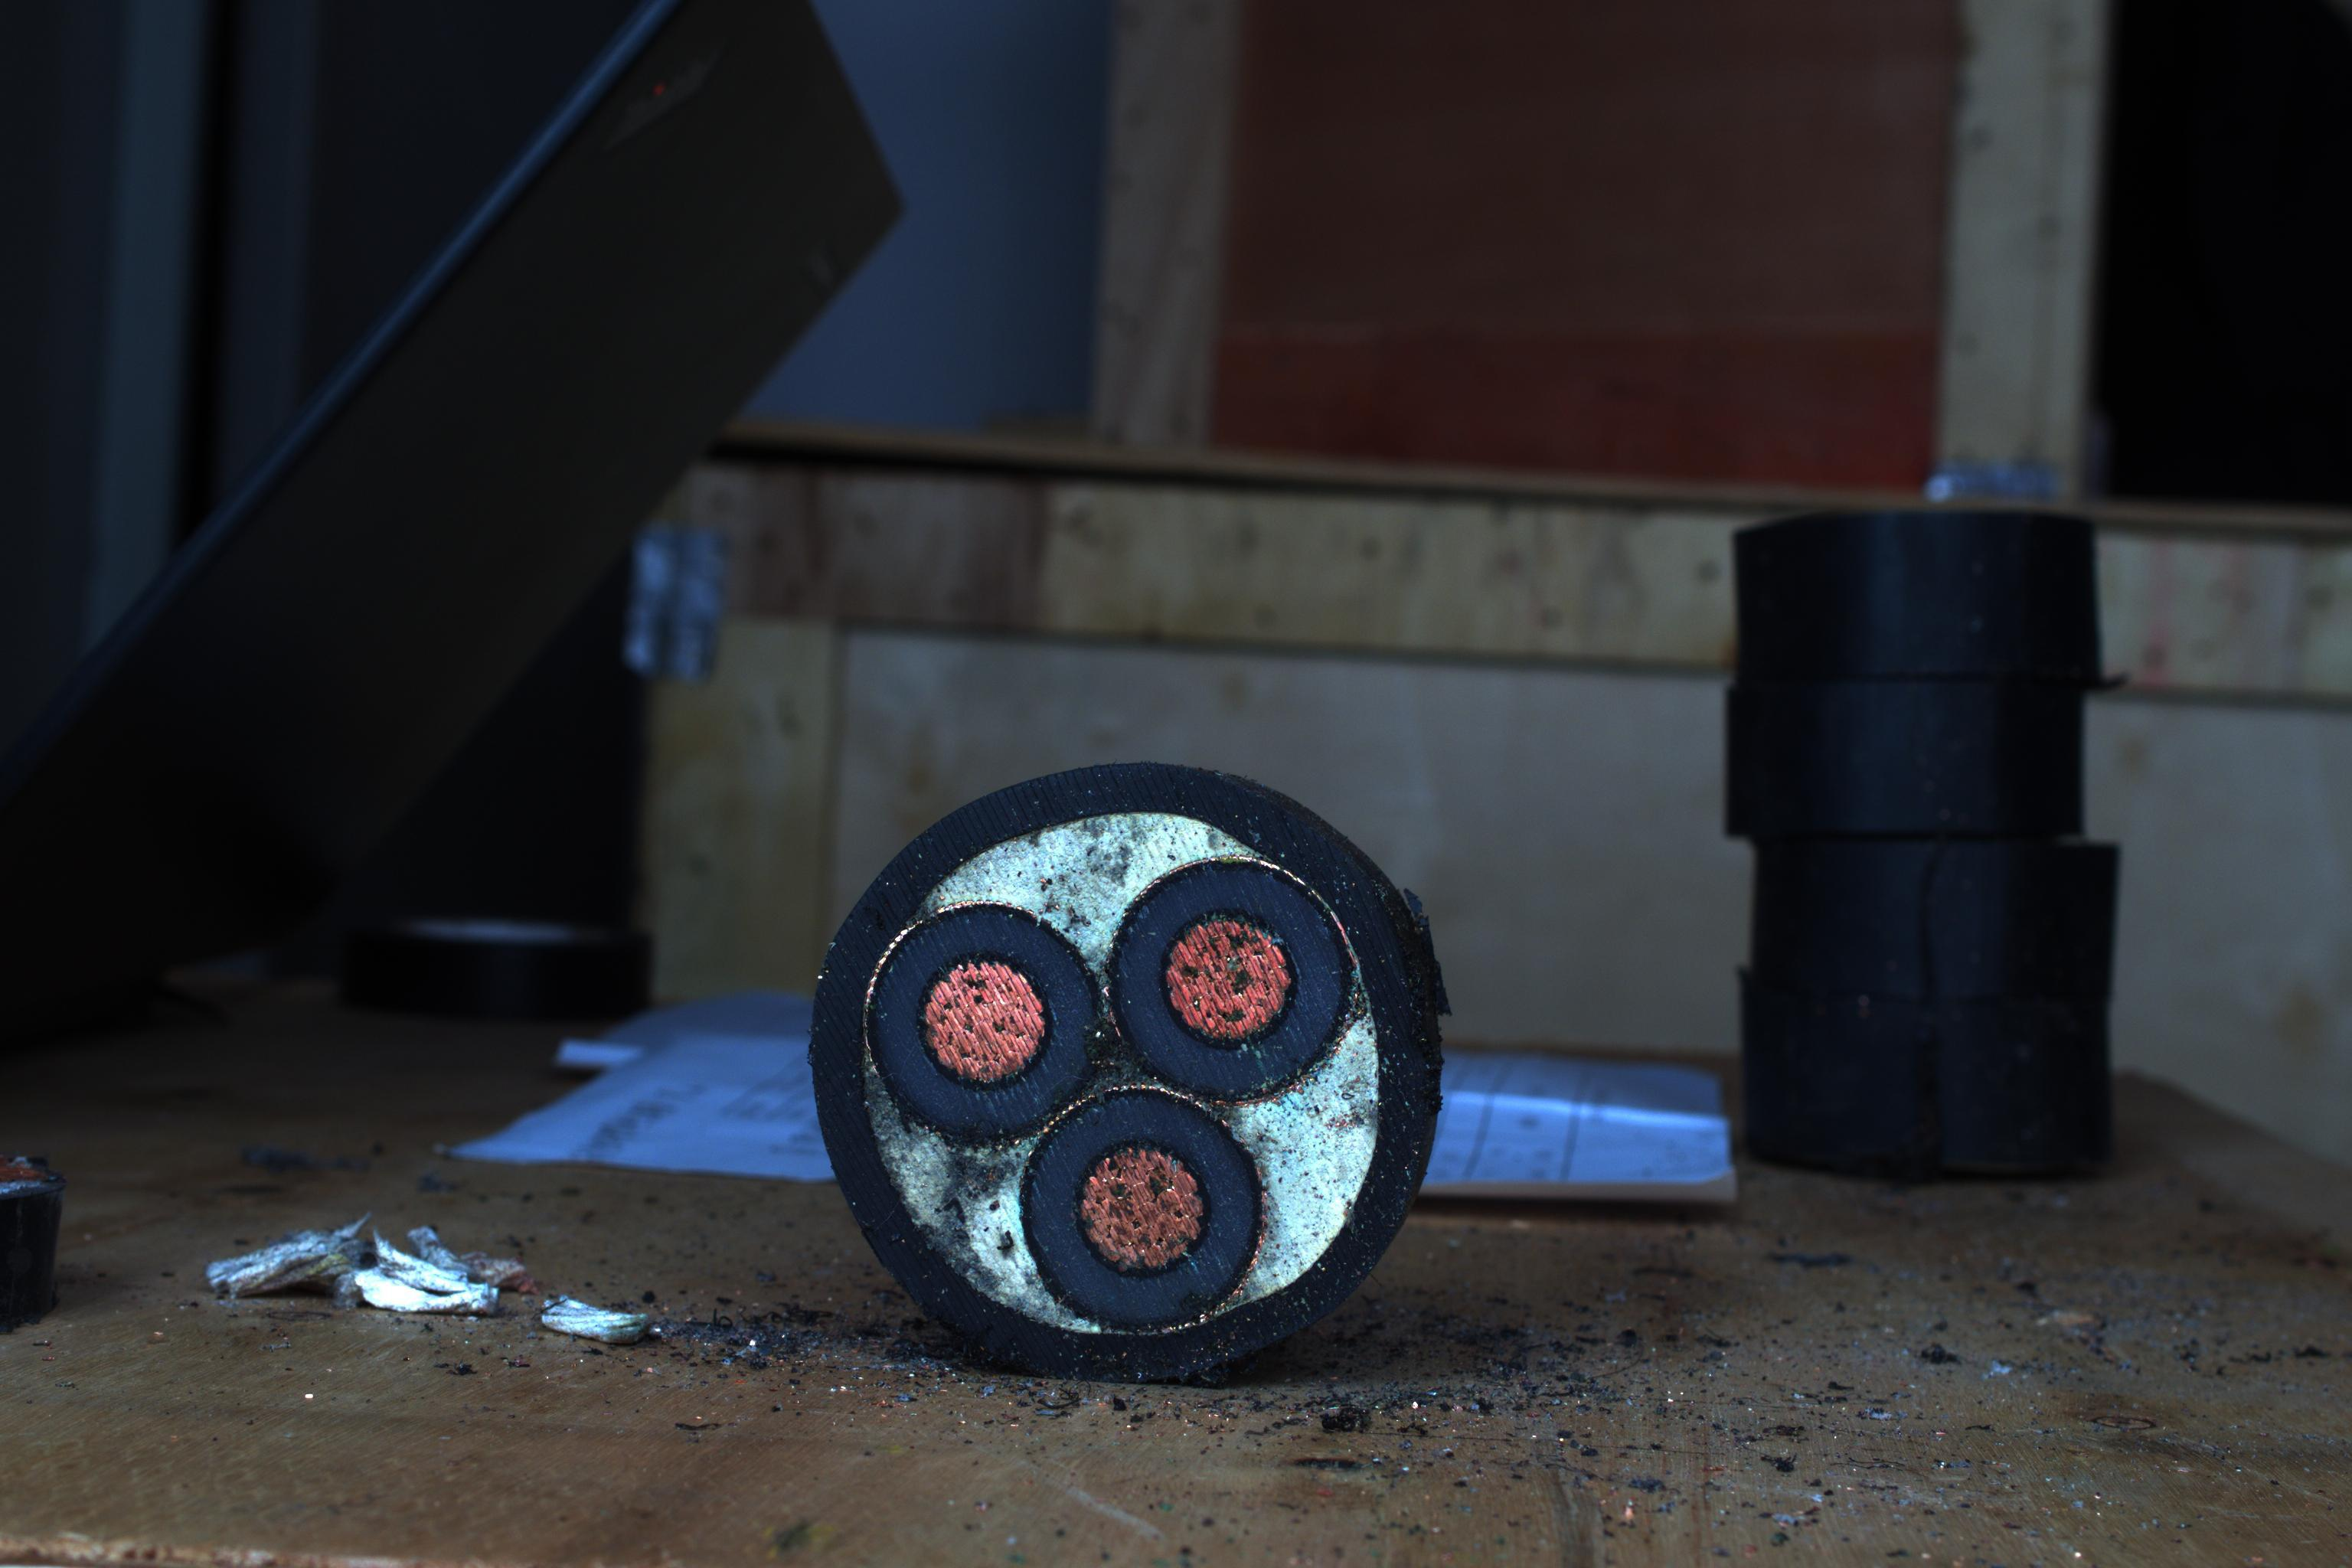ZA_YJV_8.7_10kV_3x120: (777, 773, 1421, 1349)
